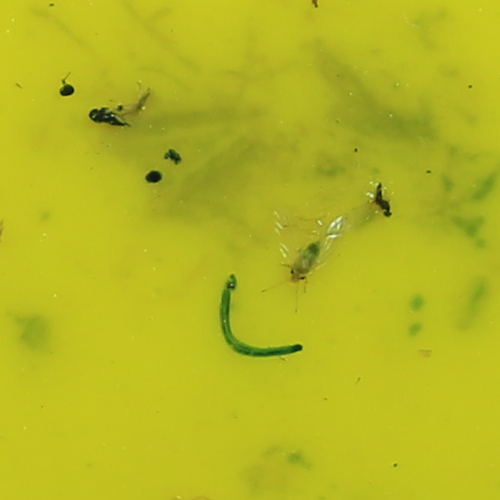Glycaspis: (284, 237, 324, 281)
Psyllaephagus: (86, 104, 137, 129)
